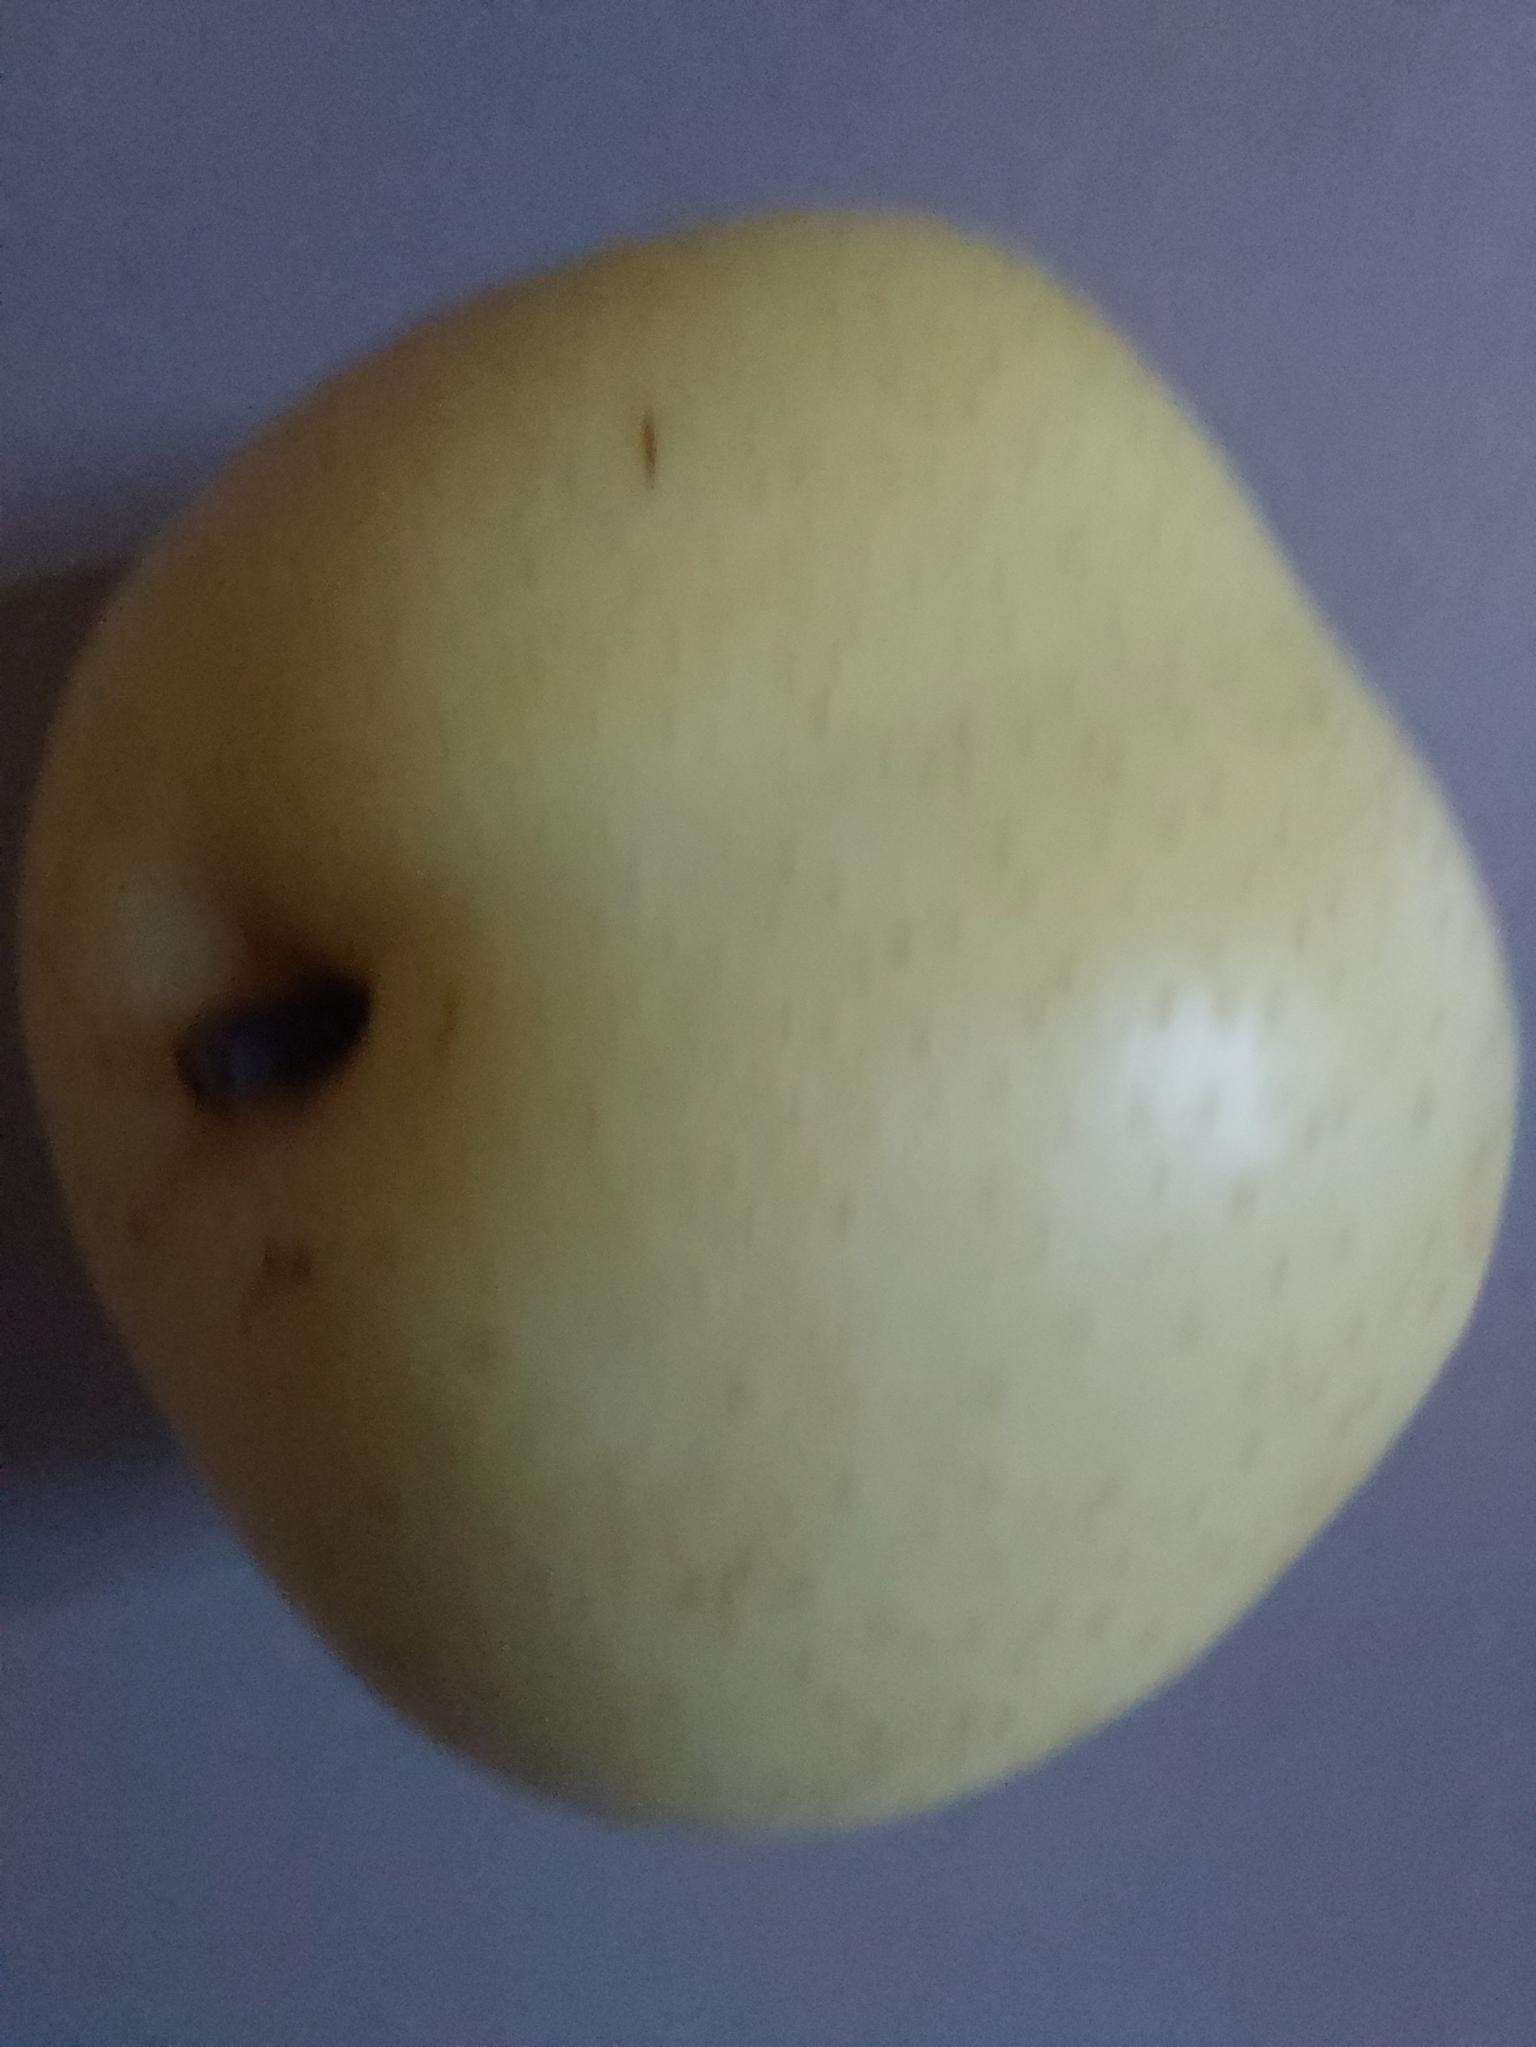Good Pear: (27, 0, 1536, 1884)
